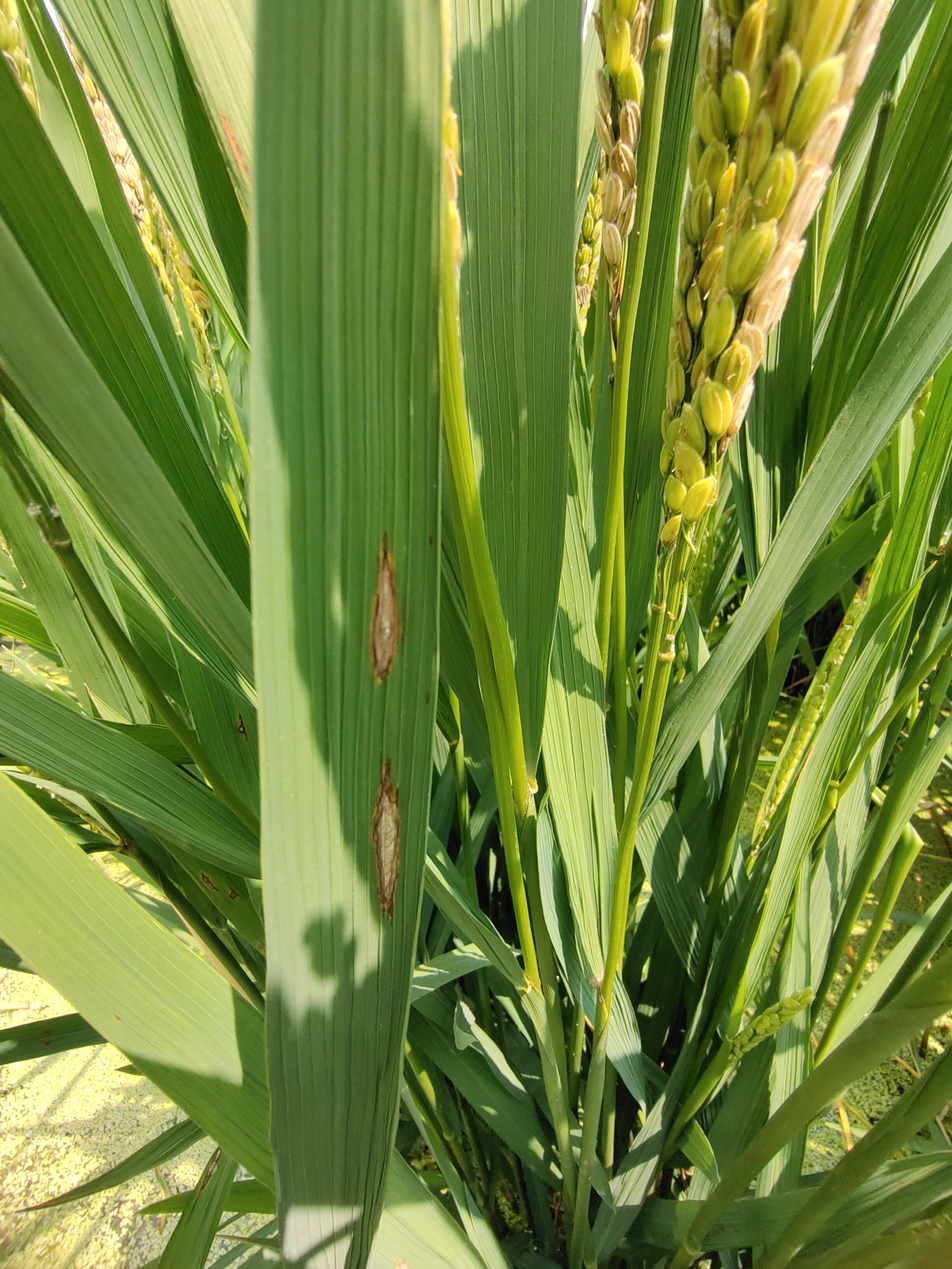LEAF: (250, 0, 440, 1269)
LEAF BLAST: (369, 532, 403, 686), (371, 758, 401, 923)
